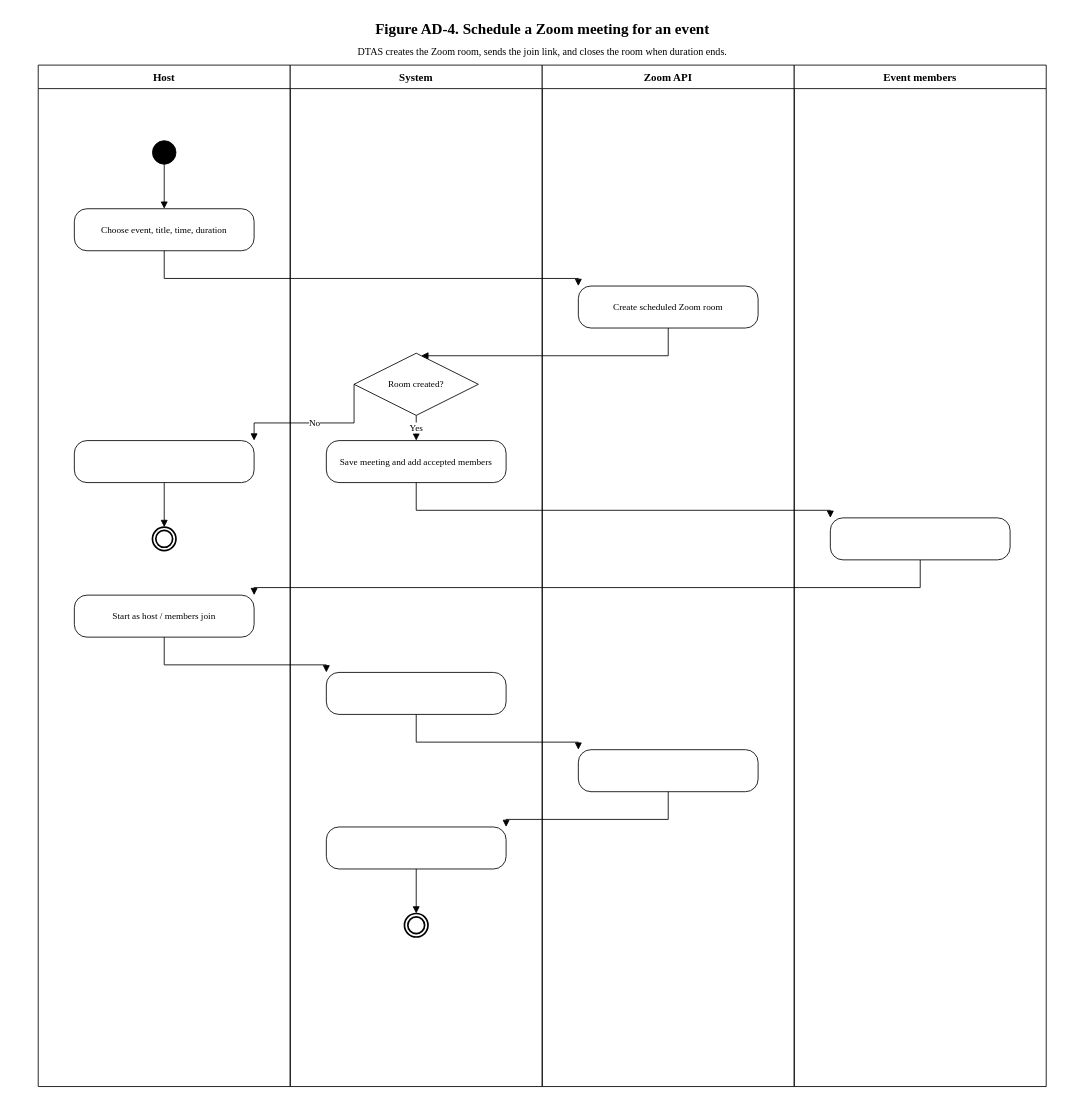
This 1084x1101 diagram has some shape labels left out. The centre of each missing label's shape, as x and y in pixels:
"End and delete Zoom room" belongs at point (668, 770).
"Mark Ended, clear Start/Join" belongs at point (416, 847).
"Notify members with join link" belongs at point (920, 538).
"Show Zoom error and stop" belongs at point (164, 461).
"Wait until start + duration" belongs at point (416, 693).
